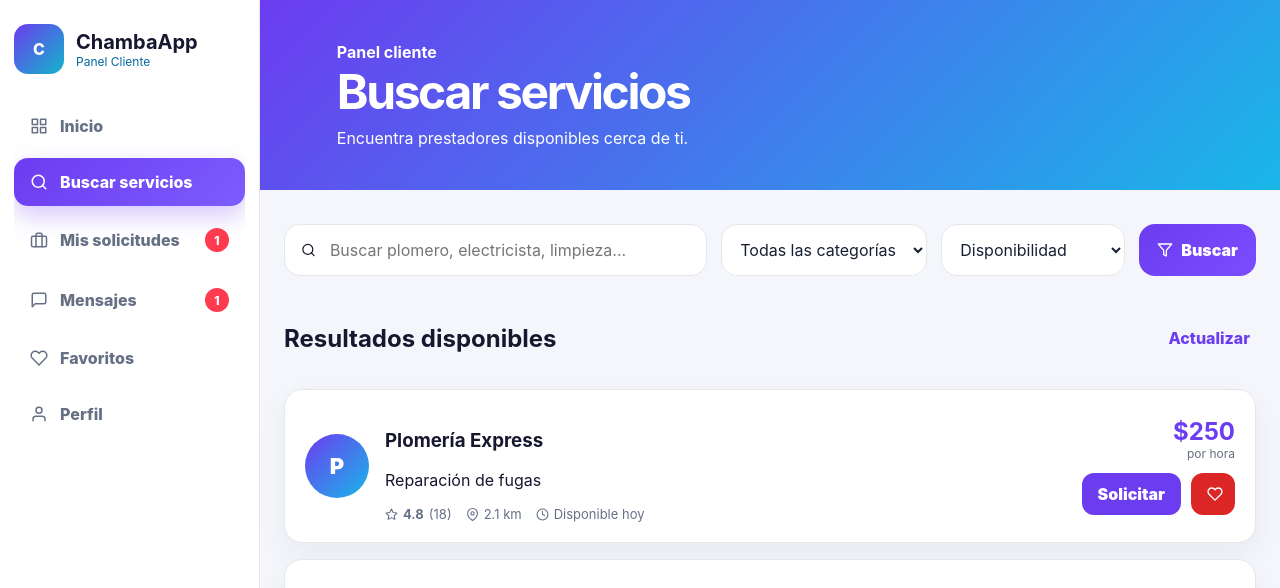
Test case: Catálogo de Servicios › debe poder agregar un servicio a favoritos
This screenshot has width=1280, height=588.
Check: the heading "Plomería Express" is shown, box [385,428,543,452]
Click the button named "Agregar a favoritos".
click(1213, 494)  # box [1191,473,1235,515]
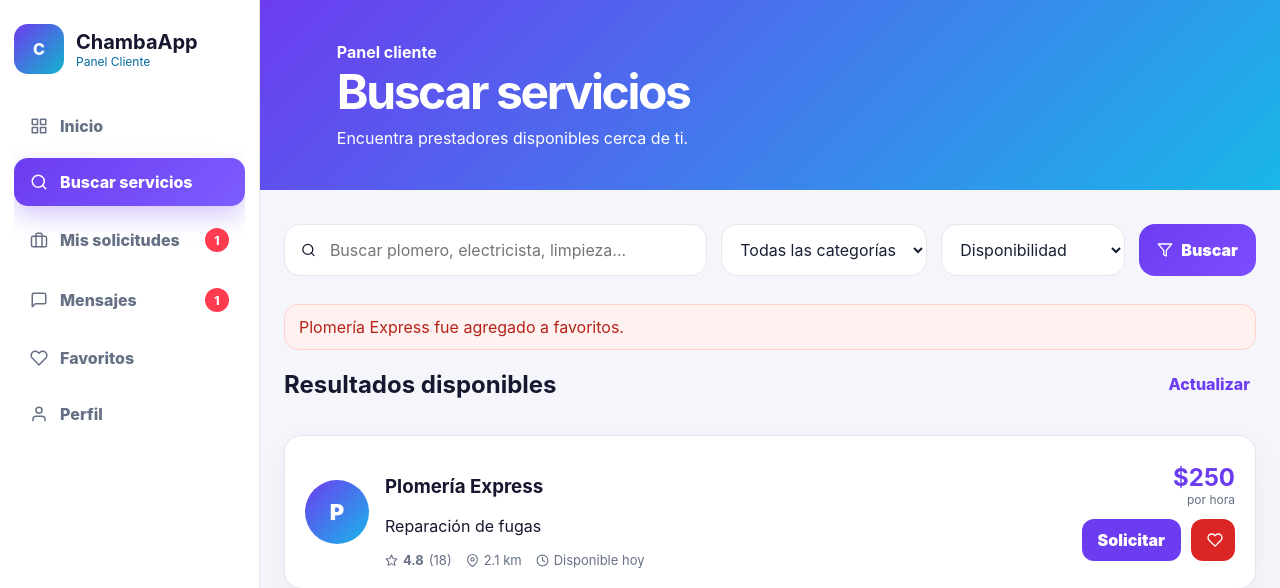
Check: the text "fue agregado a favoritos" is shown, box [299,317,624,337]
